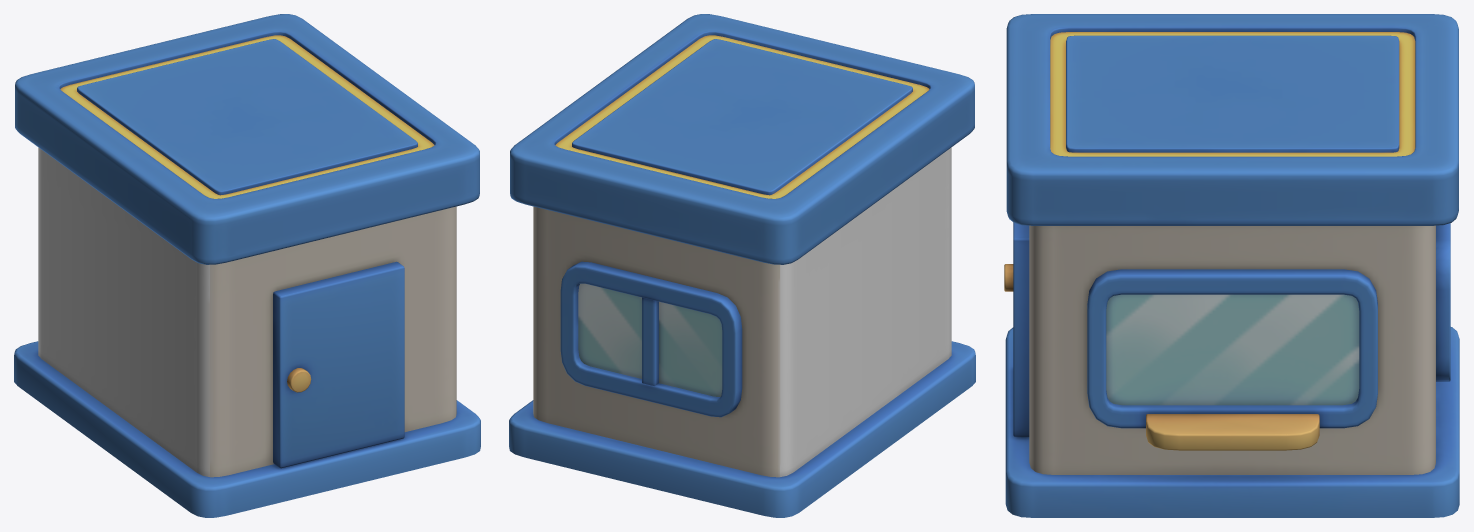
Rendered from ControlRoom_01.fbx.
3 views of the same model, side by side, from view 1: azimuth 30°, elevation 25°; view 2: azimuth 150°, elevation 25°; view 3: azimuth 270°, elevation 25° (orthographic). The views are drawn at different scales.
Parts seen in each view (by area): view 1: ControlRoom_01; view 2: ControlRoom_01; view 3: ControlRoom_01.
Boxes of the visible parts, bbox=[...] form: ControlRoom_01: bbox=[14, 14, 480, 517]; ControlRoom_01: bbox=[509, 14, 975, 517]; ControlRoom_01: bbox=[1004, 14, 1459, 517].
Bounding box in the file's own units: 469 × 420 × 502.
